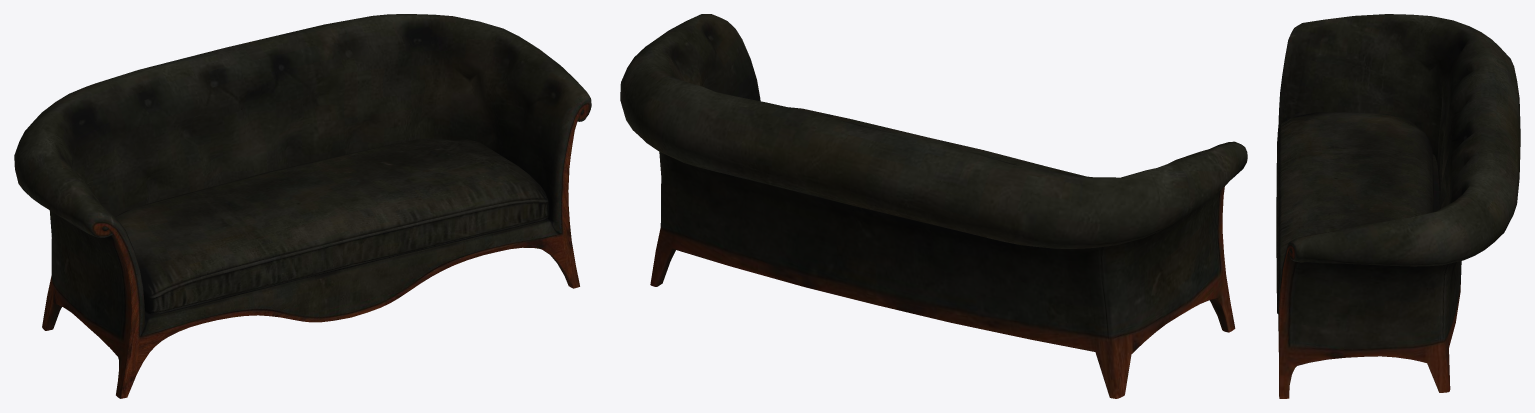
File: bsofa.glb
3 renders of one model, left to right at view 1: azimuth 30°, elevation 25°; view 2: azimuth 150°, elevation 25°; view 3: azimuth 270°, elevation 25°, orthographic. The views are drawn at different scales.
Parts seen in each view (by area): view 1: Base, Seat; view 2: Base, Seat; view 3: Base, Seat.
Boxes of the visible parts, bbox=[...] form: Base: bbox=[14, 14, 591, 398]; Seat: bbox=[115, 139, 549, 314]; Base: bbox=[620, 14, 1247, 398]; Seat: bbox=[789, 107, 1086, 176]; Base: bbox=[1278, 14, 1520, 398]; Seat: bbox=[1276, 112, 1433, 313].
Size of the model in its own units: 1.81 by 0.7098 by 0.818.
Materials: 2 (2 with a texture image).
